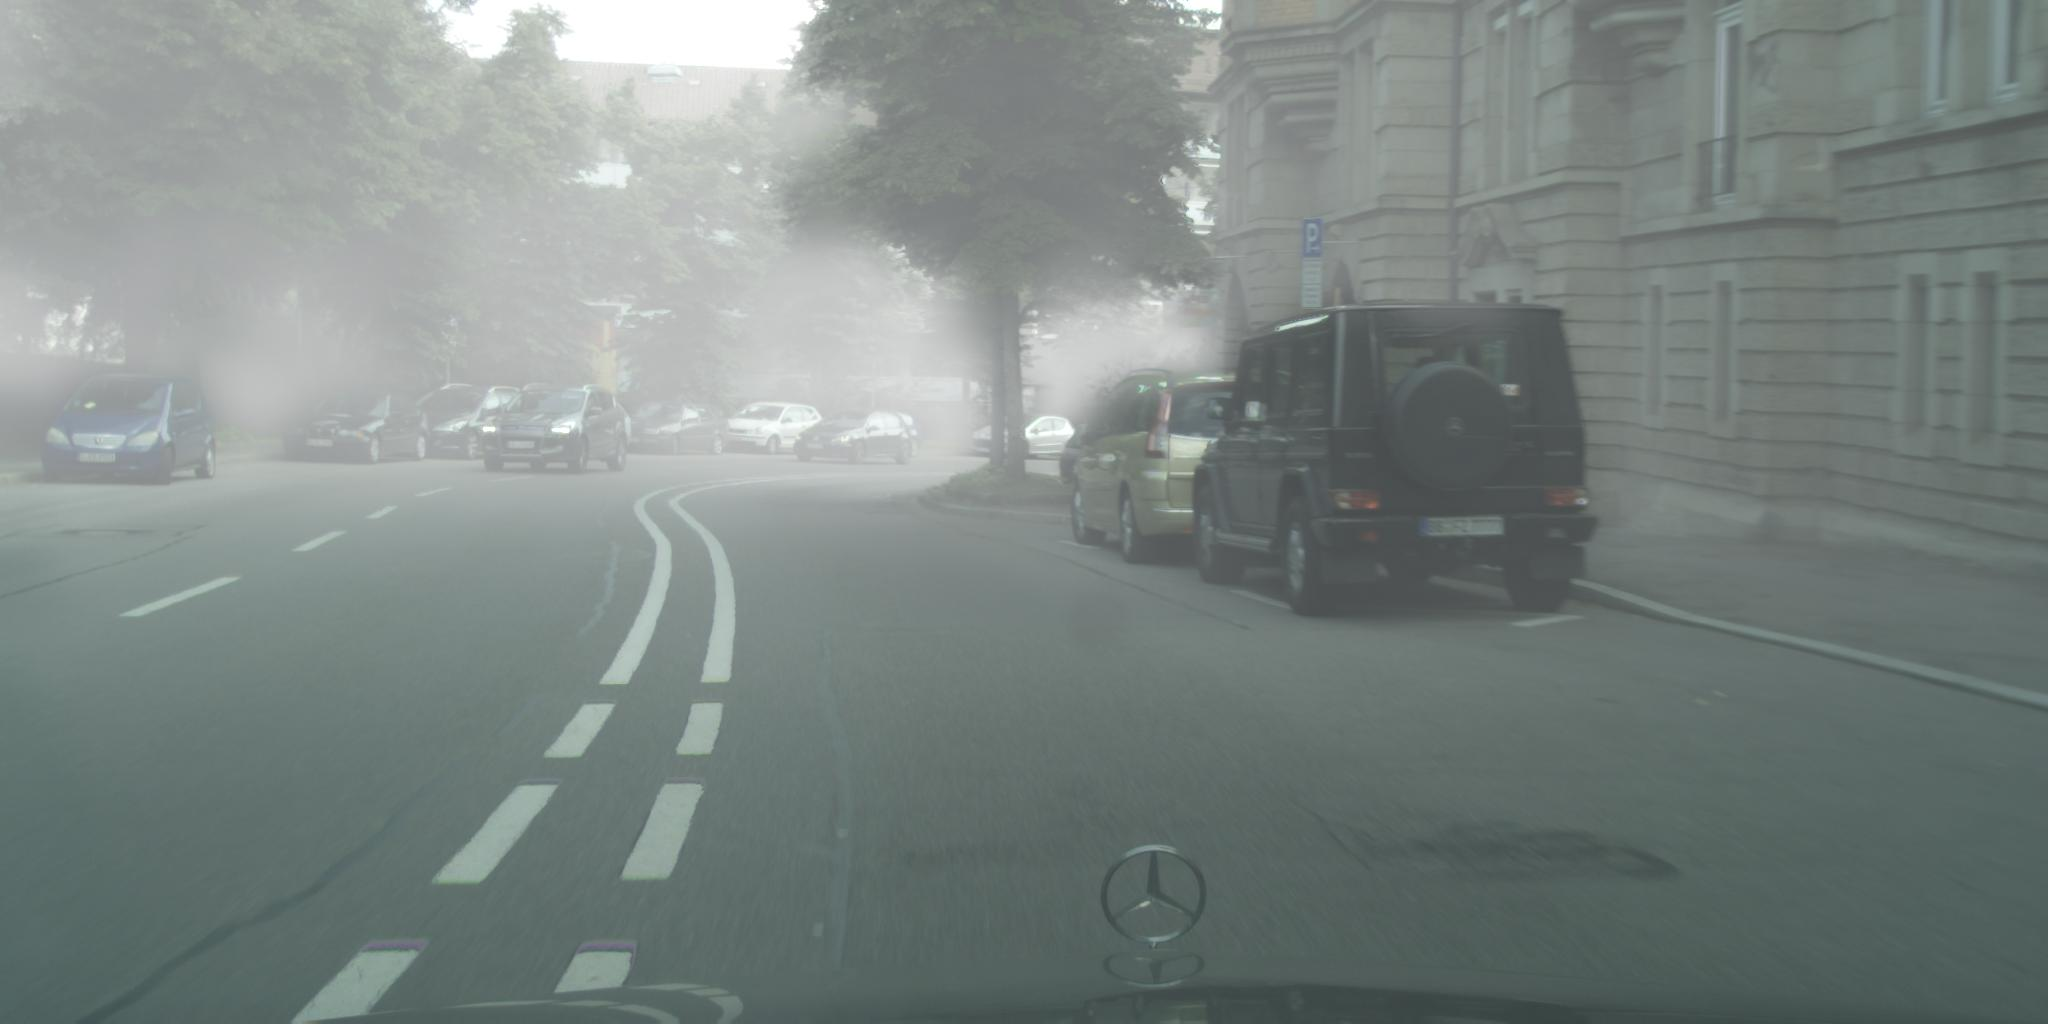car: (1192, 296, 1607, 618), (1070, 368, 1253, 566), (1058, 368, 1253, 517), (40, 371, 218, 486), (481, 381, 633, 475), (282, 389, 430, 465), (415, 381, 524, 461), (793, 408, 913, 466), (718, 401, 827, 456), (622, 401, 730, 456), (970, 410, 1081, 460), (874, 408, 923, 458)
